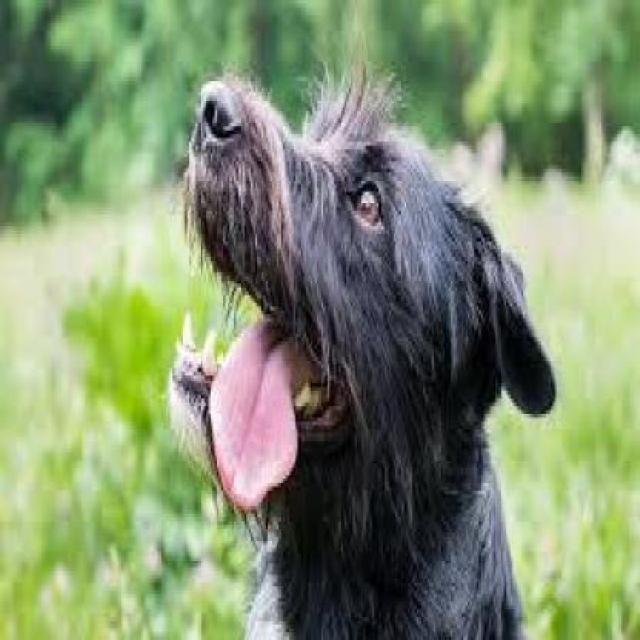animals: (154, 24, 560, 640)
